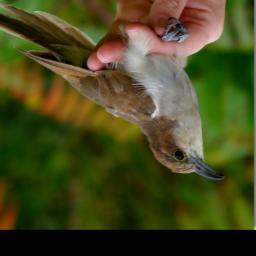Cuckoo: (0, 4, 225, 182)
